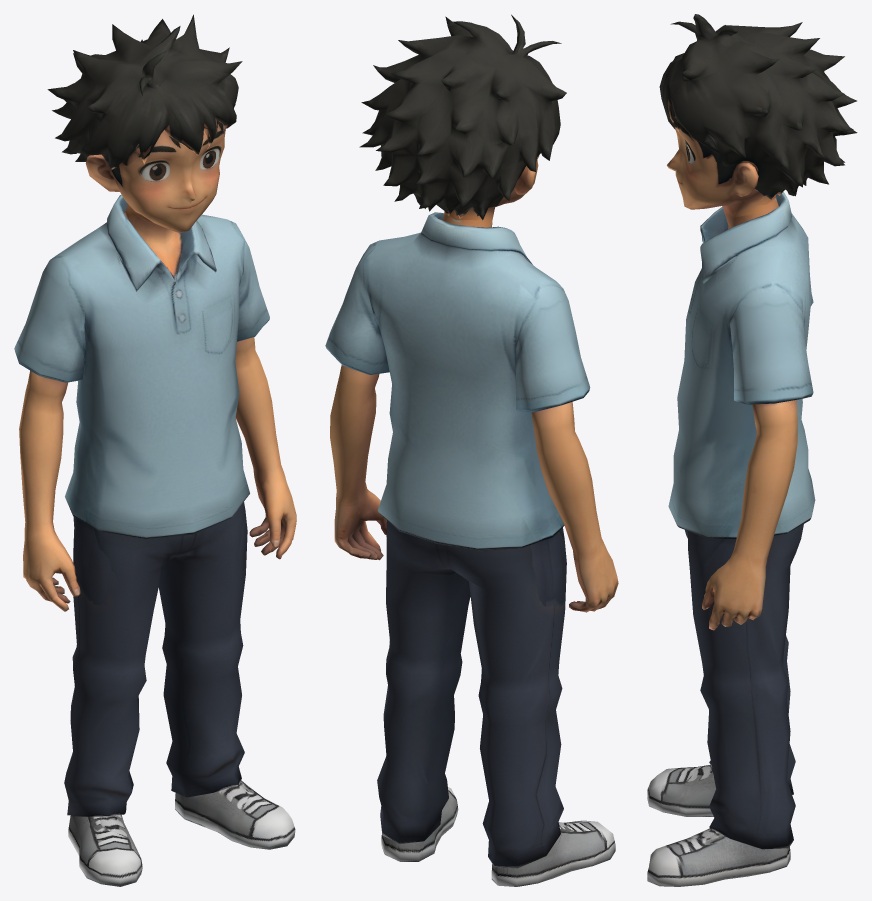
File: friend_boy_dh.glb
The picture shows the model from 3 angles, left to right: view 1: azimuth 30°, elevation 25°; view 2: azimuth 150°, elevation 25°; view 3: azimuth 270°, elevation 25°; orthographic projection. The views are drawn at different scales.
Parts seen in each view (by area): view 1: tripo_node_9ef38e2b-e6f3-4b29-aaf6-758eeeedee5c; view 2: tripo_node_9ef38e2b-e6f3-4b29-aaf6-758eeeedee5c; view 3: tripo_node_9ef38e2b-e6f3-4b29-aaf6-758eeeedee5c.
Part boxes in pixels (left/top/right/bottom): tripo_node_9ef38e2b-e6f3-4b29-aaf6-758eeeedee5c: left=14, top=14, right=296, bottom=886; tripo_node_9ef38e2b-e6f3-4b29-aaf6-758eeeedee5c: left=325, top=14, right=618, bottom=886; tripo_node_9ef38e2b-e6f3-4b29-aaf6-758eeeedee5c: left=647, top=14, right=857, bottom=886.
Size of the model in its own units: 0.3418 by 0.998 by 0.2324.
Materials: 1 (1 with a texture image).
